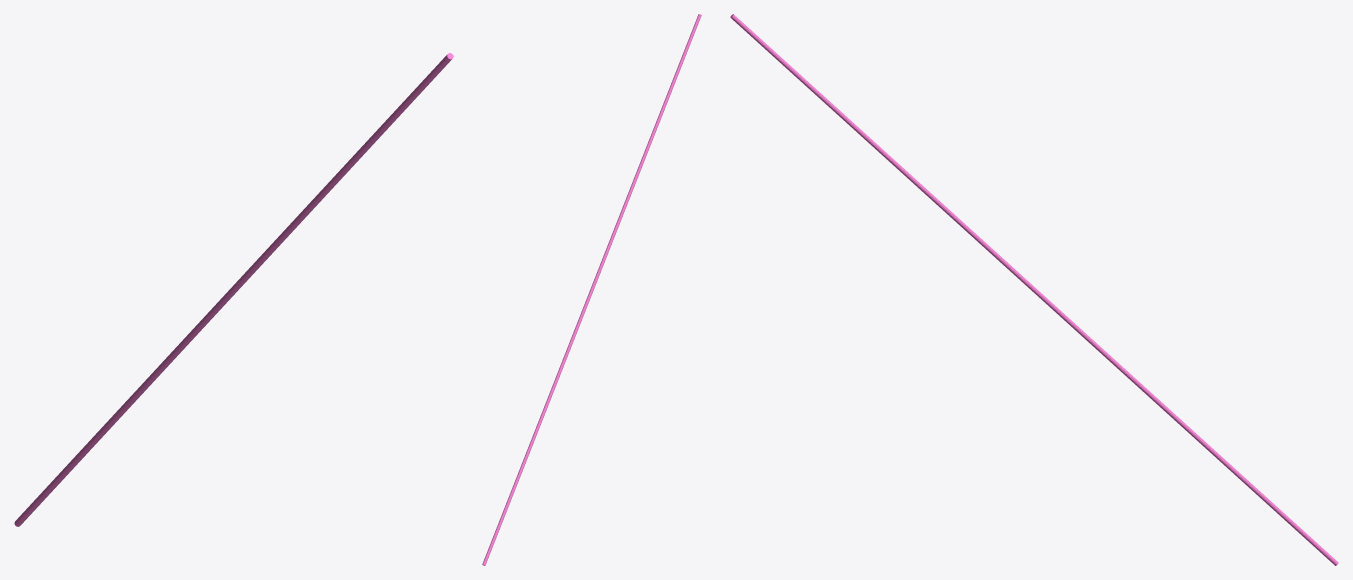
The model's file is tile_428.glb.
The picture shows the model from 3 angles, left to right: view 1: azimuth 30°, elevation 25°; view 2: azimuth 150°, elevation 25°; view 3: azimuth 270°, elevation 25°; orthographic projection. The views are drawn at different scales.
Bounding box in the file's own units: 0.1978 × 24.89 × 24.89.
